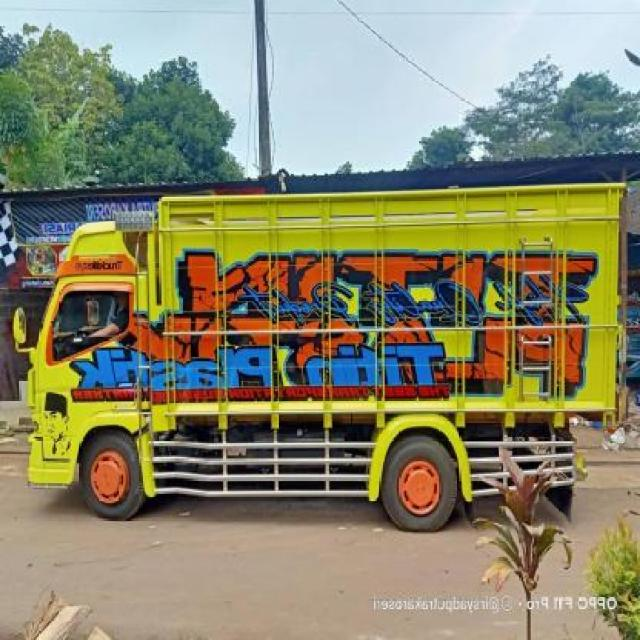truck: (15, 181, 630, 527)
